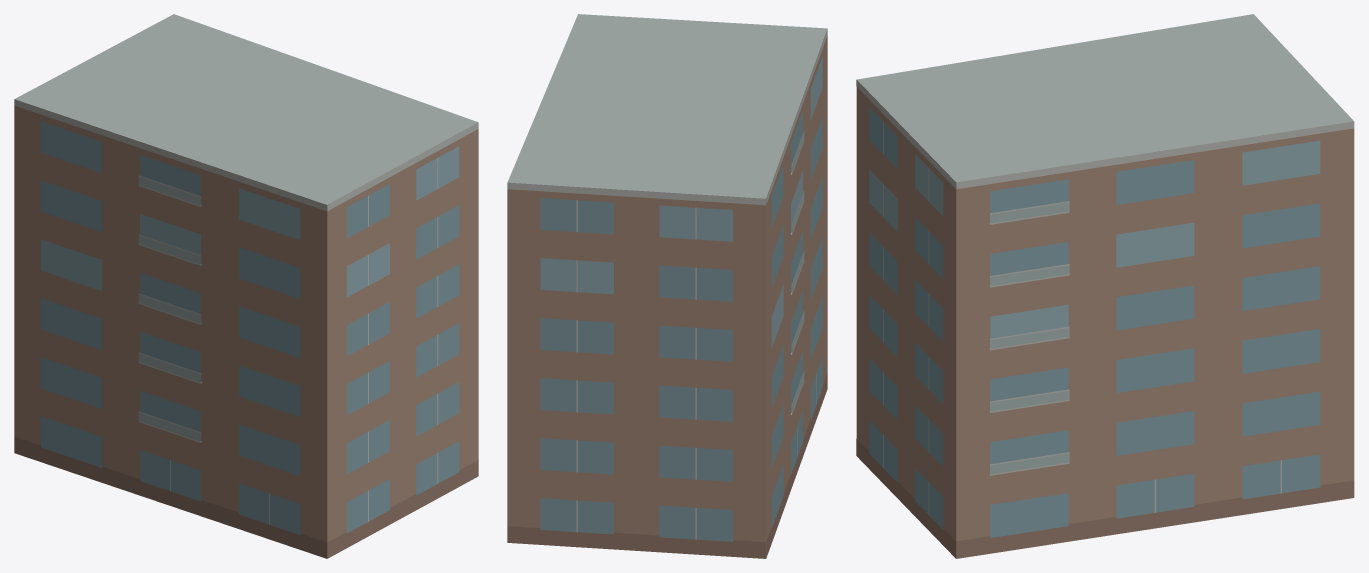
Rendered from survey-upis-32889231.glb.
3 views of the same model, side by side, from view 1: azimuth 30°, elevation 25°; view 2: azimuth 150°, elevation 25°; view 3: azimuth 270°, elevation 25° (orthographic). The views are drawn at different scales.
Parts seen in each view (by area): view 1: survey-upis-32889231.tmp; view 2: survey-upis-32889231.tmp; view 3: survey-upis-32889231.tmp.
Part boxes in pixels (x1=…): survey-upis-32889231.tmp: x1=14, y1=14, x2=478, y2=558; survey-upis-32889231.tmp: x1=507, y1=14, x2=827, y2=558; survey-upis-32889231.tmp: x1=856, y1=14, x2=1354, y2=558.
Bounding box in the file's own units: 12.87 × 13.4 × 16.07.
